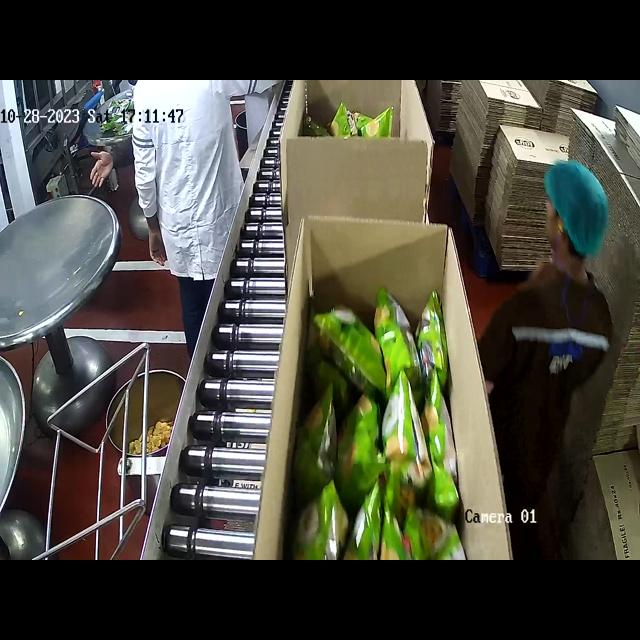yogurt: (321, 305, 449, 560), (315, 104, 396, 139)
